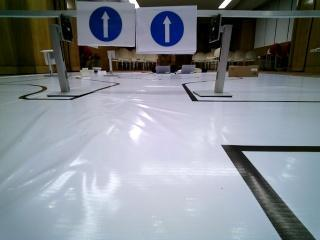straight: (77, 0, 136, 49), (137, 9, 194, 51)
